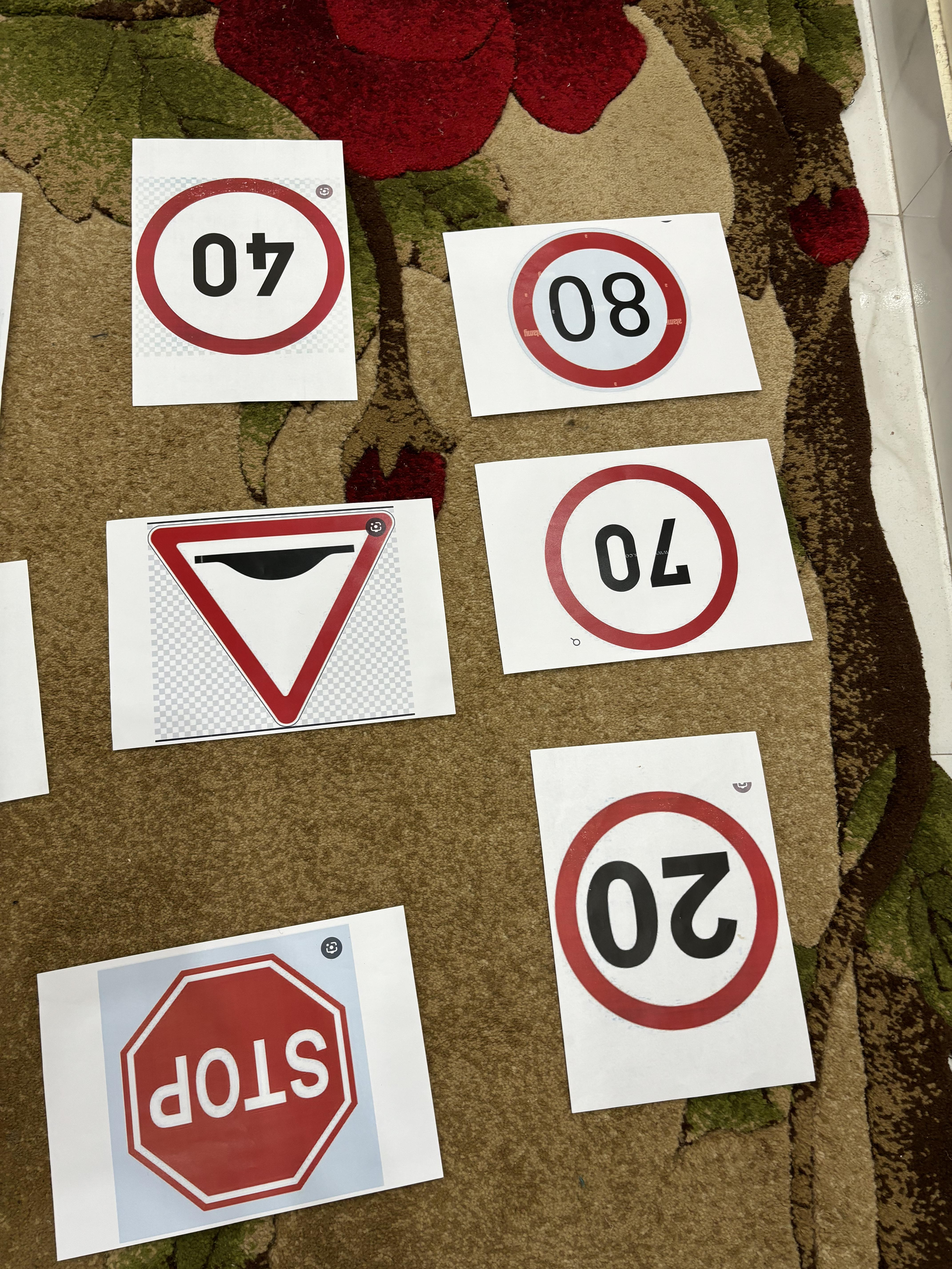20-Speed: (550, 782, 789, 1039)
40-Speed: (131, 180, 347, 358)
70-Speed: (541, 458, 745, 652)
80-Speed: (509, 227, 696, 392)
Hump: (150, 505, 407, 730)
Stop: (113, 951, 363, 1219)
